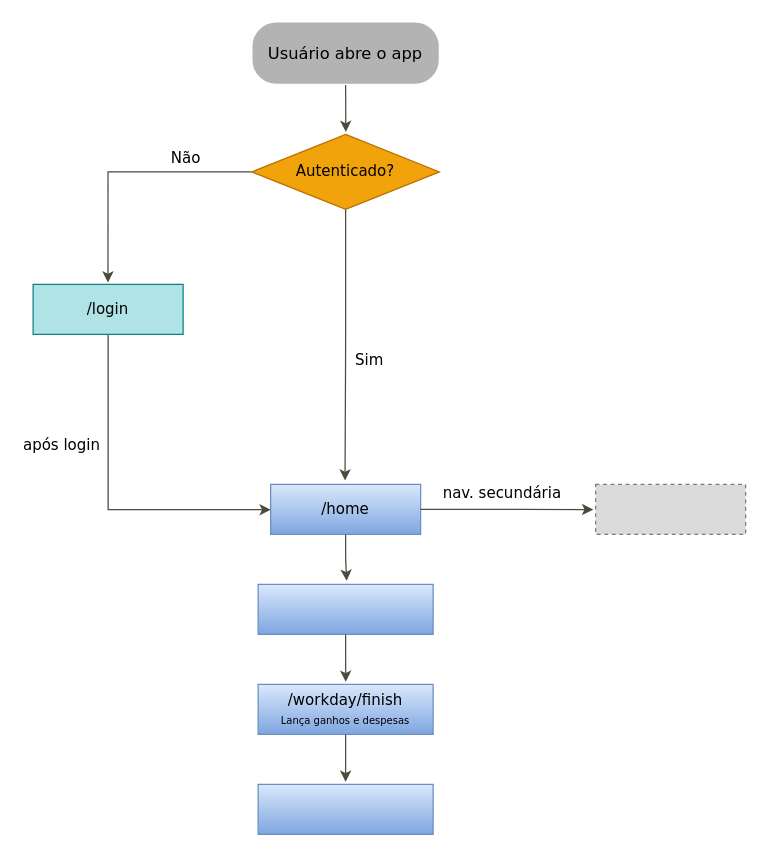
Image size: 768x856. Some labels were removed from this diagram. Each missing label, with the centre of its shape:
/history /insights /profile: the point at 670,508
/workday/result Resultado do dia (R$/km): the point at 345,808
/workday/start Informa odômetro inicial: the point at 345,608
